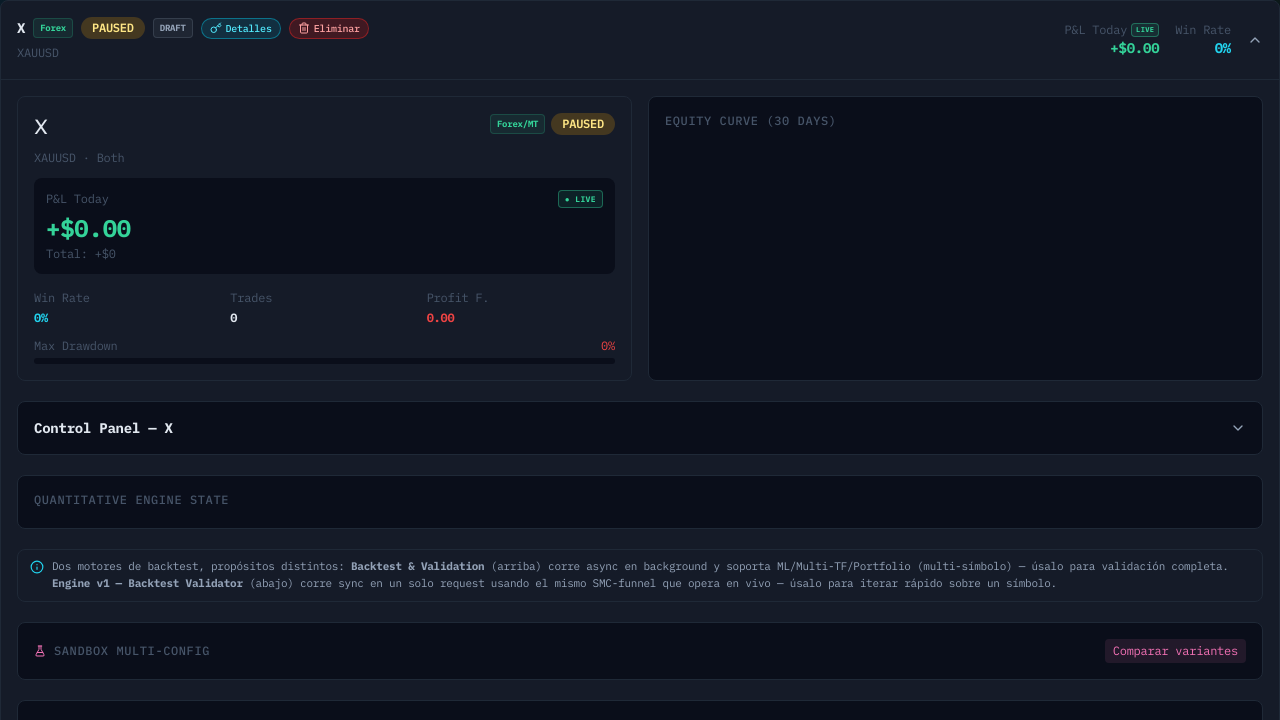
Test: AlgoAccordion › Delete click opens the confirm dialog
The width and height of the screenshot is (1280, 720).
Click the button with aria-label "Eliminar X": (329, 28) [289, 18, 369, 38]
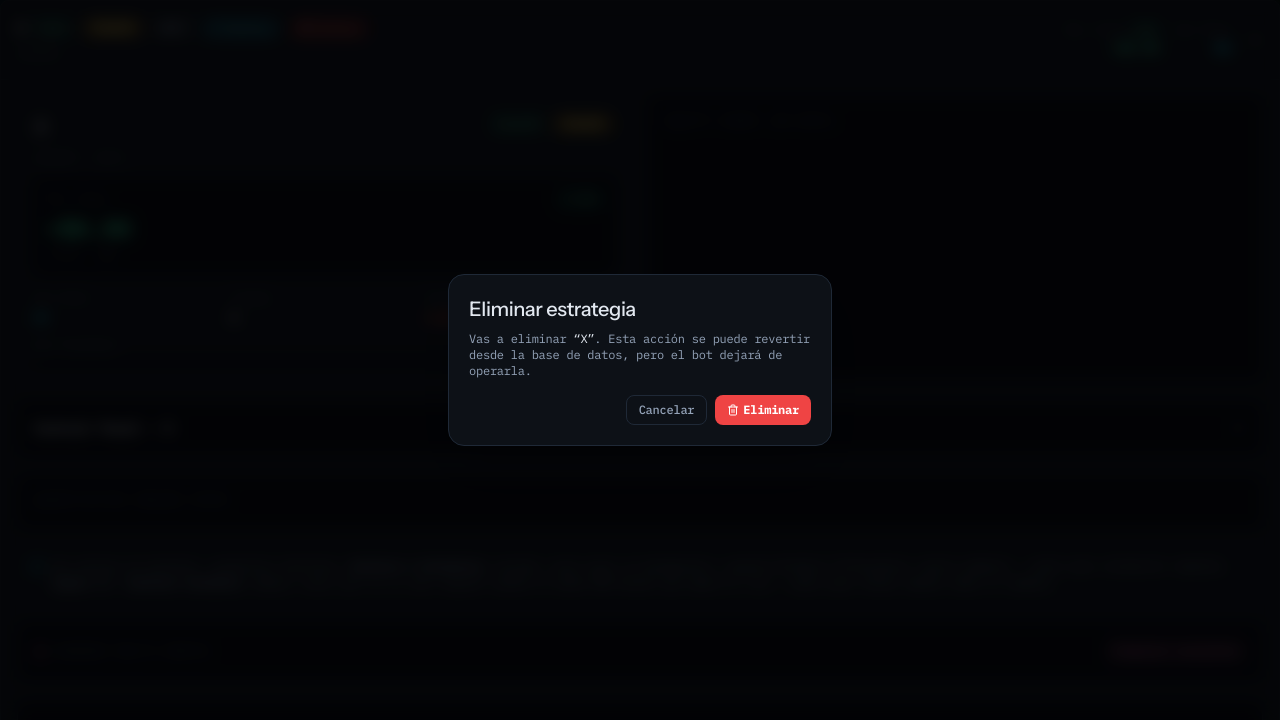
Check: the dialog is shown
Check: the heading "Eliminar estrategia" is shown, box [469, 297, 636, 321]
